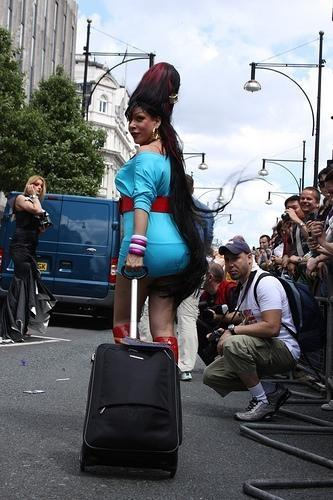truck: (38, 197, 120, 328)
